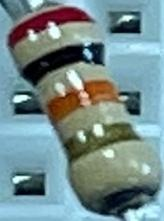Black: (14, 36, 105, 89)
Orange: (42, 75, 127, 131)
Red: (8, 3, 96, 56)
Side-Gold: (62, 119, 148, 172)
